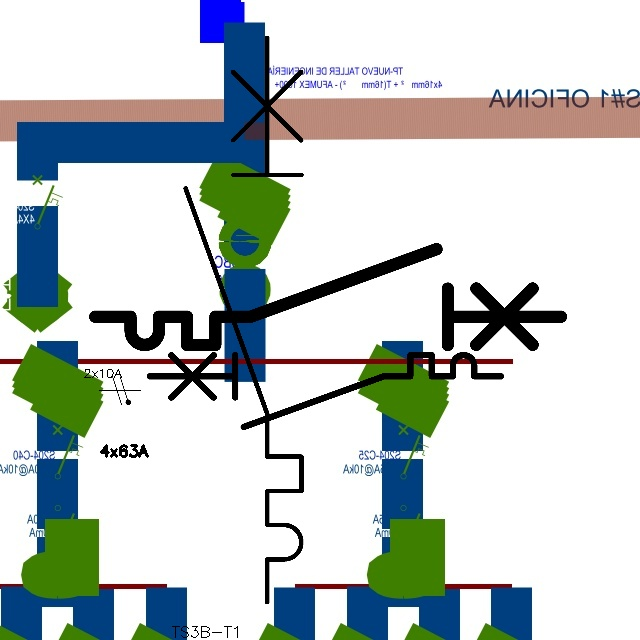interruptor_termomagnetico: (171, 23, 316, 617), (83, 237, 573, 357), (140, 346, 509, 436)
